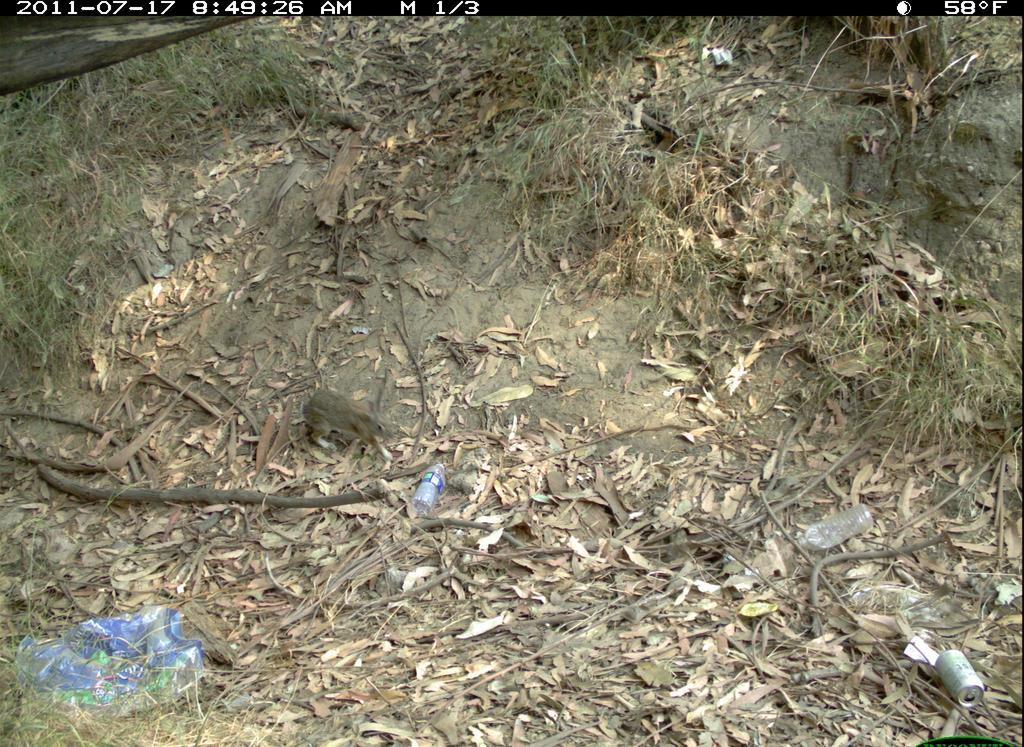rabbit: (283, 372, 401, 468)
